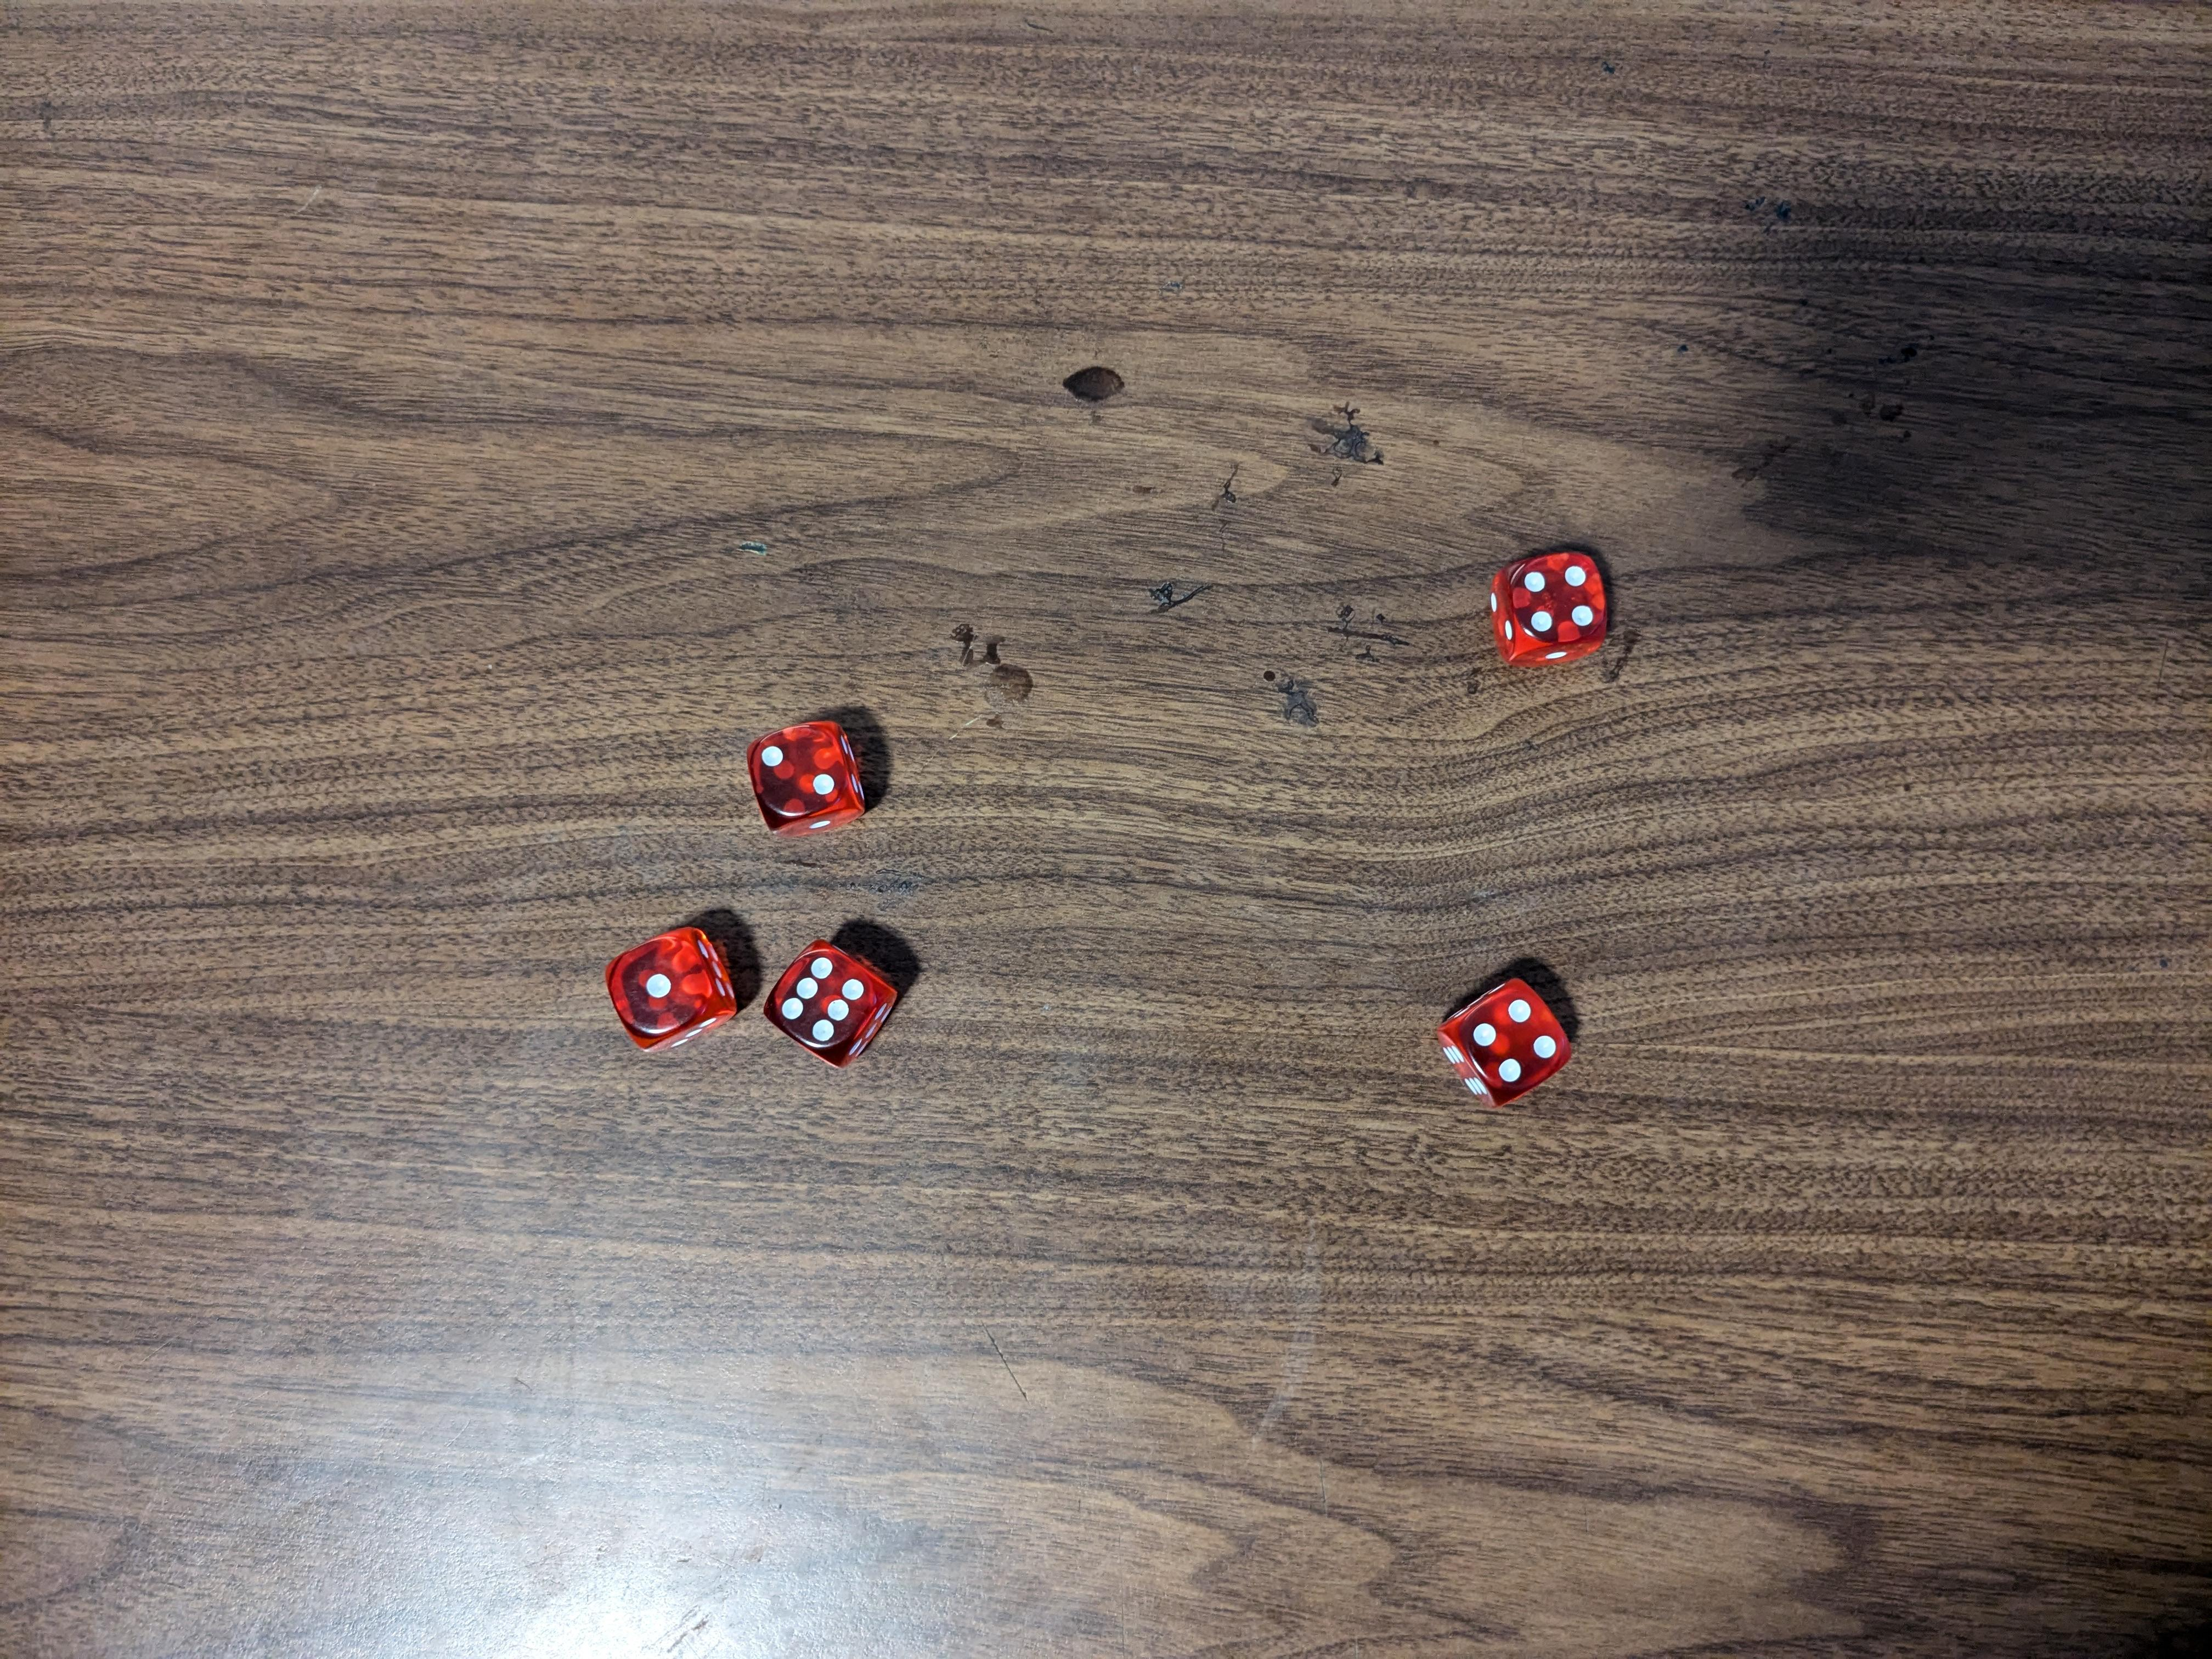four: (1437, 962, 1576, 1110), (1486, 540, 1611, 673)
one: (611, 924, 738, 1053)
six: (763, 936, 899, 1070)
two: (744, 718, 869, 842)
